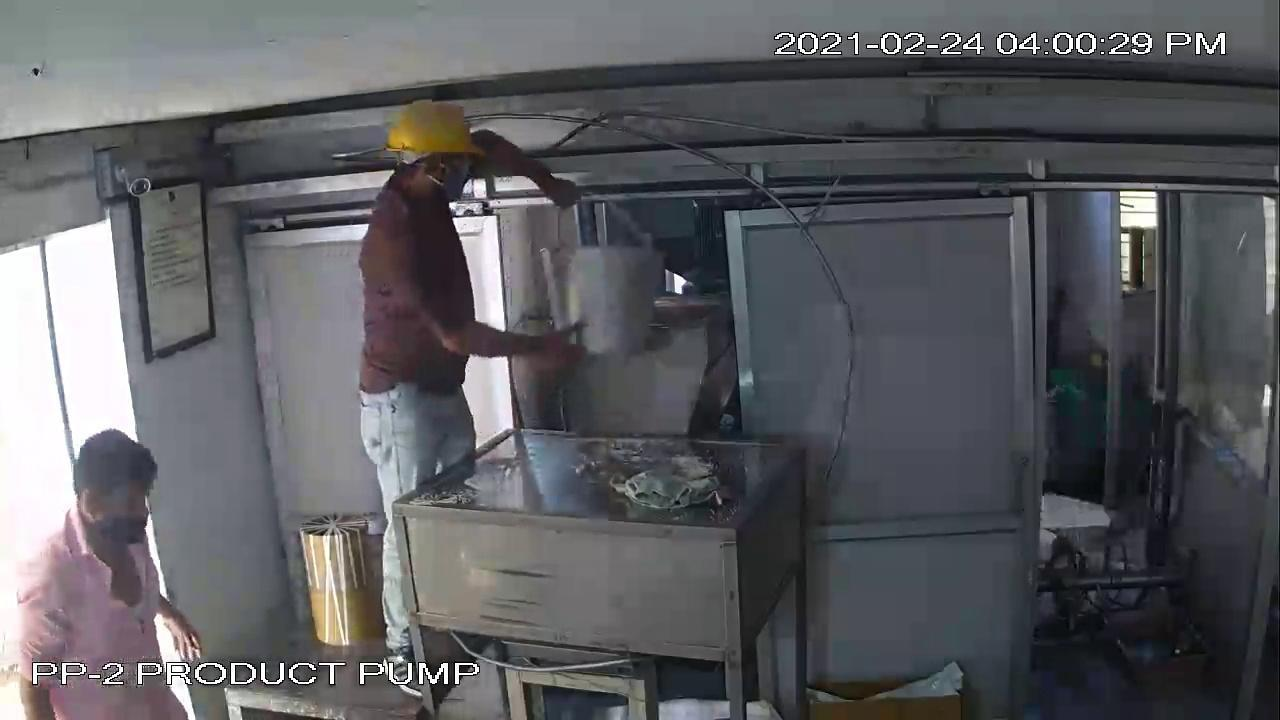helmet: (380, 92, 495, 165)
